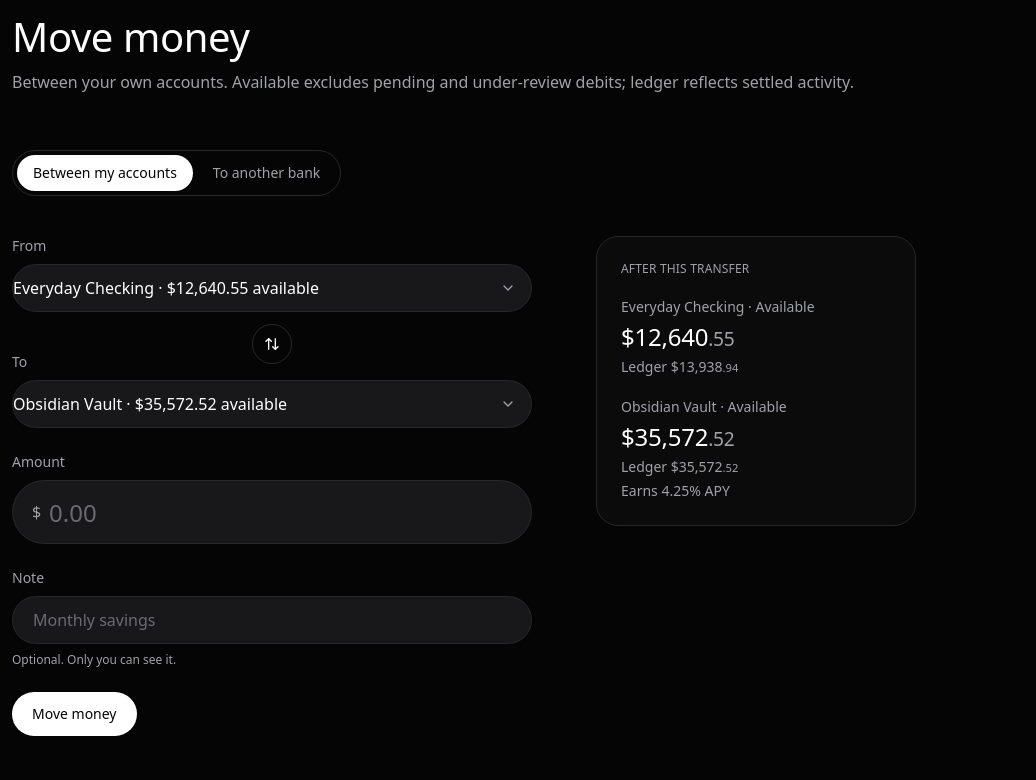
it: TransferPage › sends the amount as integer cents and confirms with the same verb
Type "25.50" into the field labelled "Amount".
click(272, 512); type("25.50")  # box [12,480,532,544]
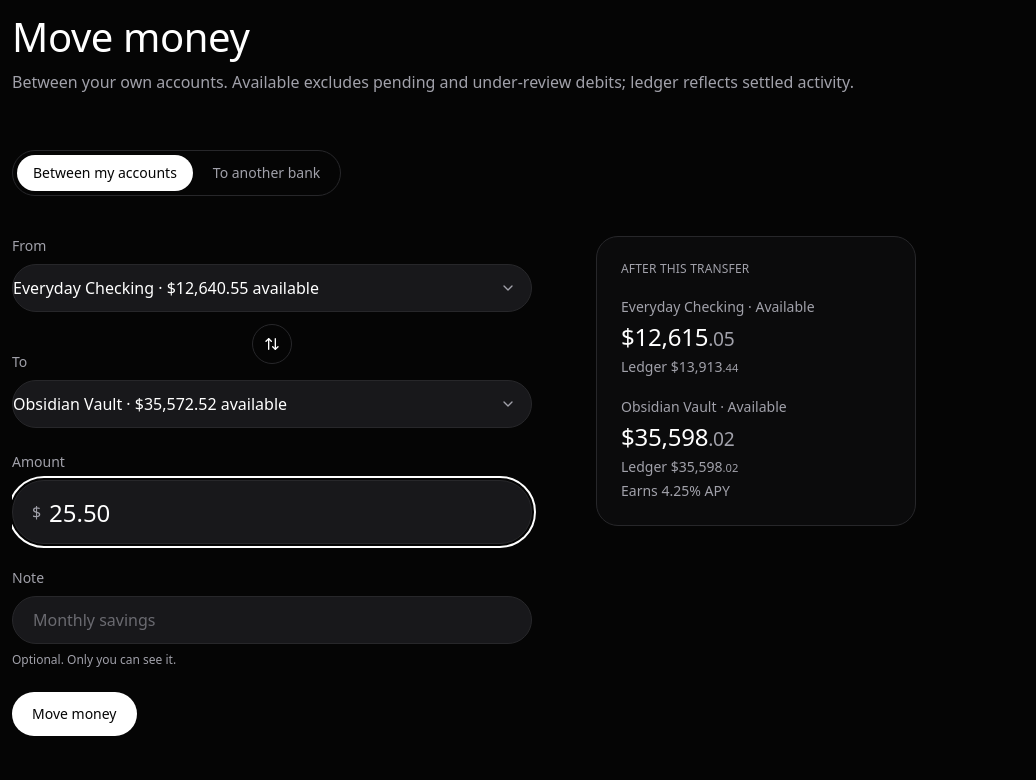
Click the button "Move money".
click(74, 714)  # box [12,692,136,736]
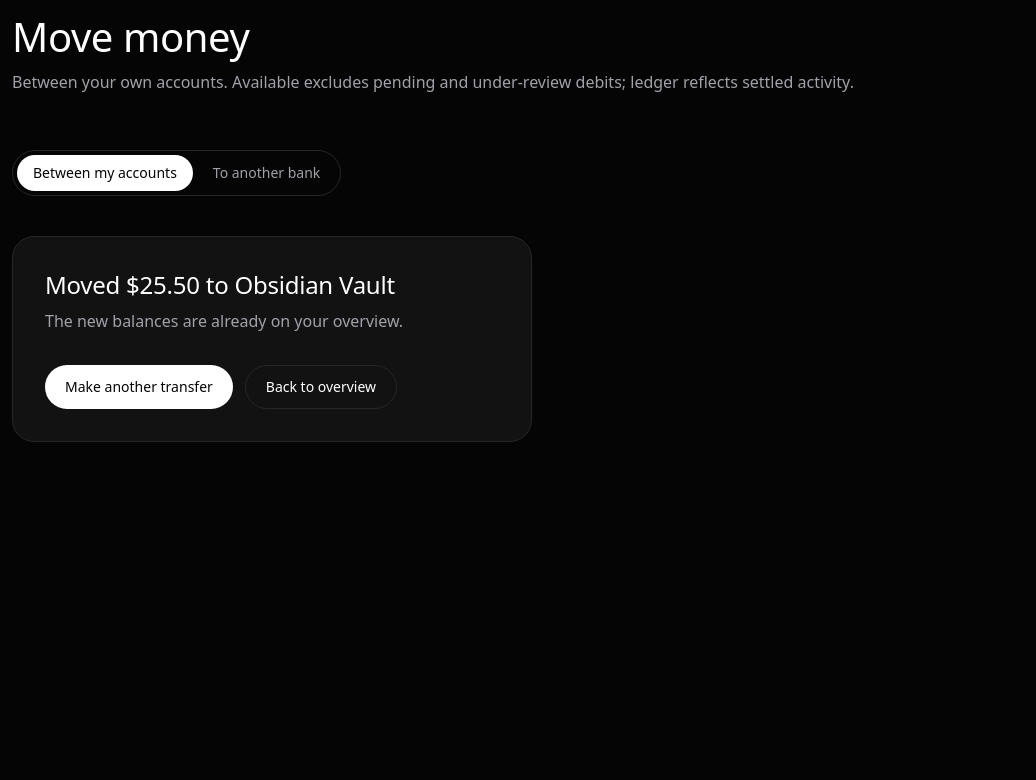
Check: the message shows "Moved $25.50 to Obsidian Vault", box [45,268,395,301]
